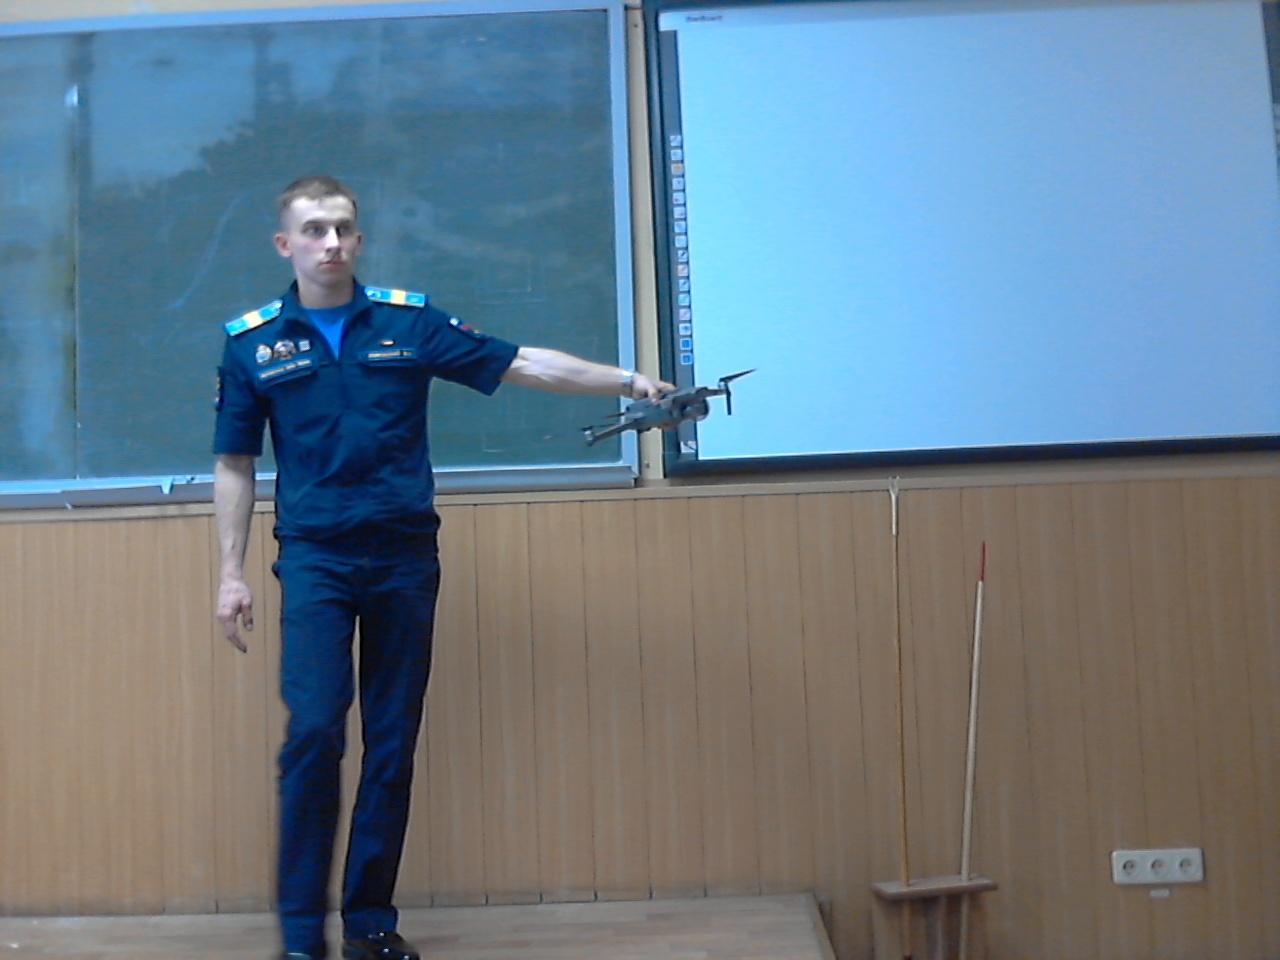drone: (562, 364, 755, 447)
